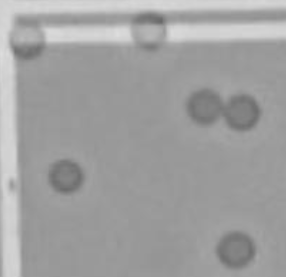cell: (210, 225, 261, 274), (217, 84, 265, 136), (2, 15, 51, 63), (126, 6, 174, 55), (39, 153, 90, 198), (180, 82, 226, 127)
